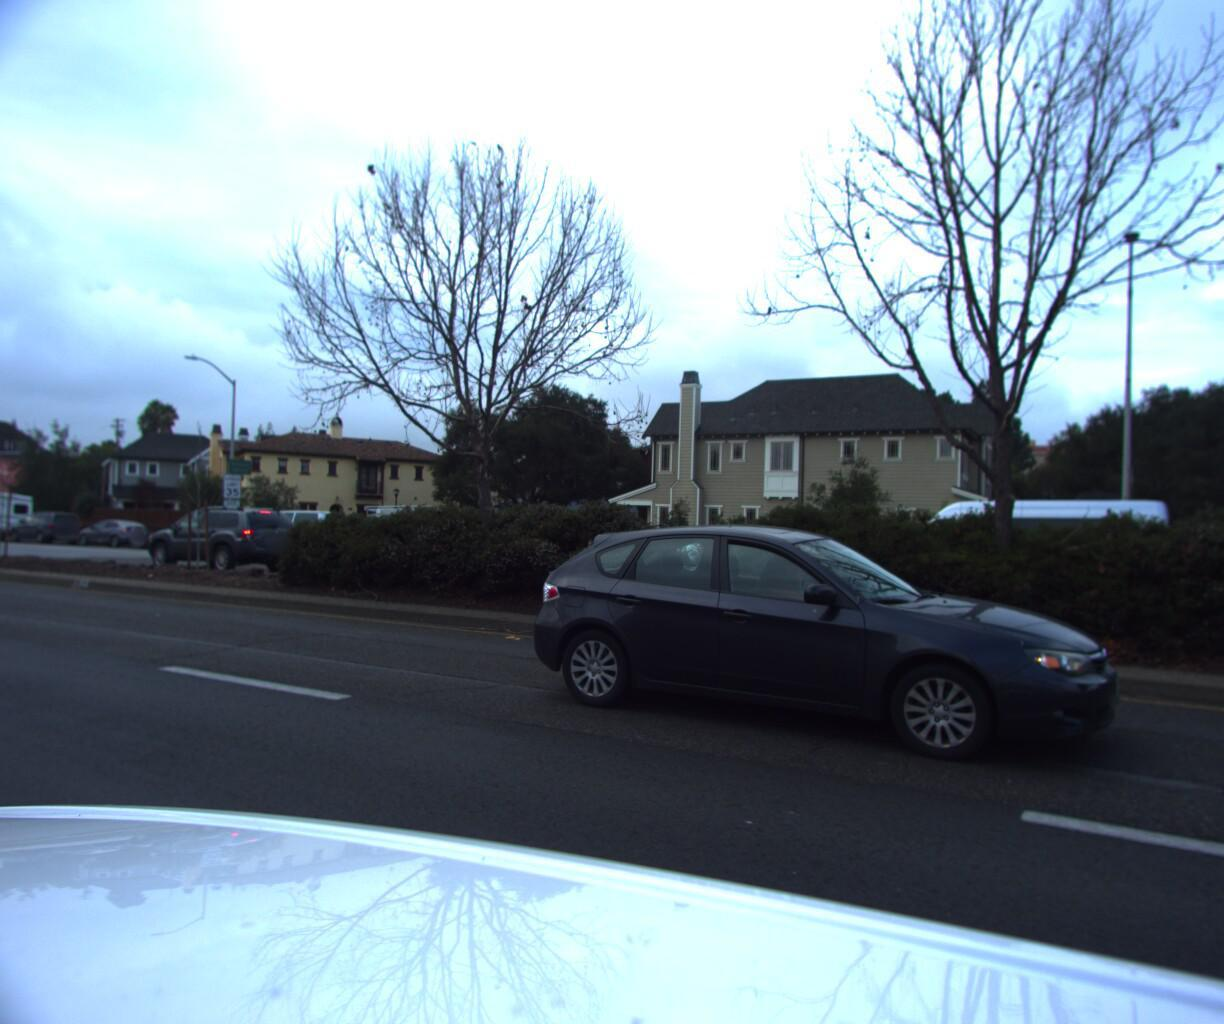car: (516, 513, 1108, 775), (859, 484, 1181, 611), (151, 507, 317, 575), (324, 504, 470, 567), (229, 508, 355, 564), (0, 513, 85, 550), (65, 520, 157, 553)
other_vehicle: (0, 488, 37, 546)
